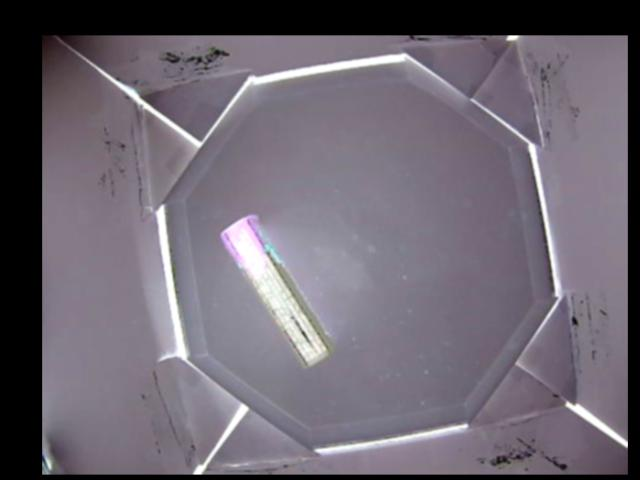Bottle: (222, 215, 338, 367)
